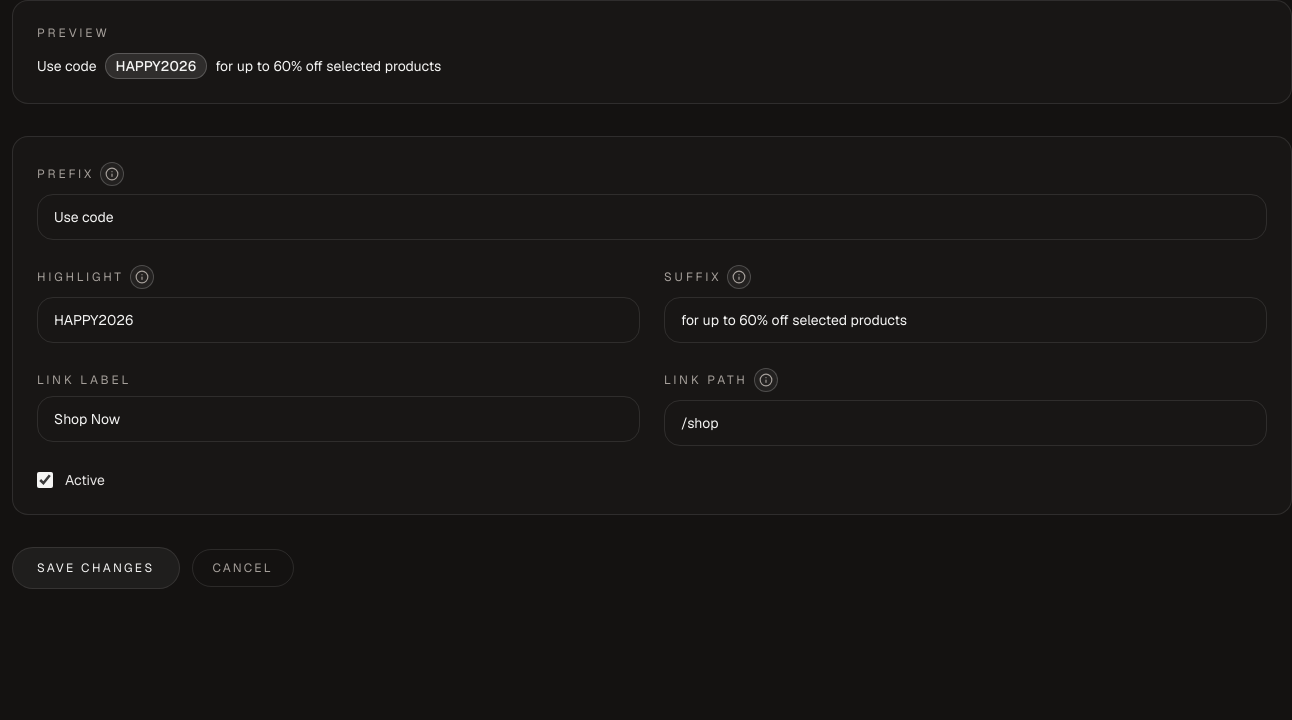
Test case: announcement form › feedback › keeps edited values after a refused save
Type "ends Sunday" into the field labelled "Suffix". click: [966, 320]
box: [664, 297, 1267, 343]
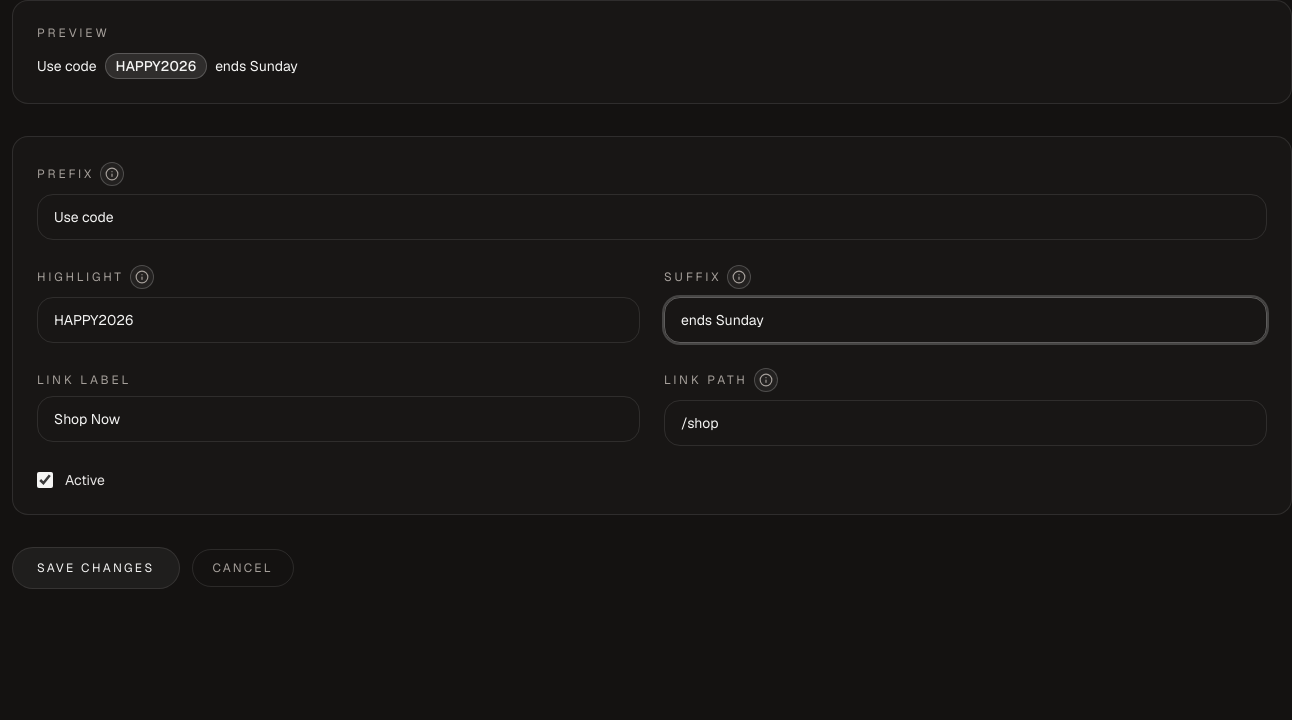
Click the checkbox labelled "Active". click: [45, 480]
box: [37, 472, 53, 488]
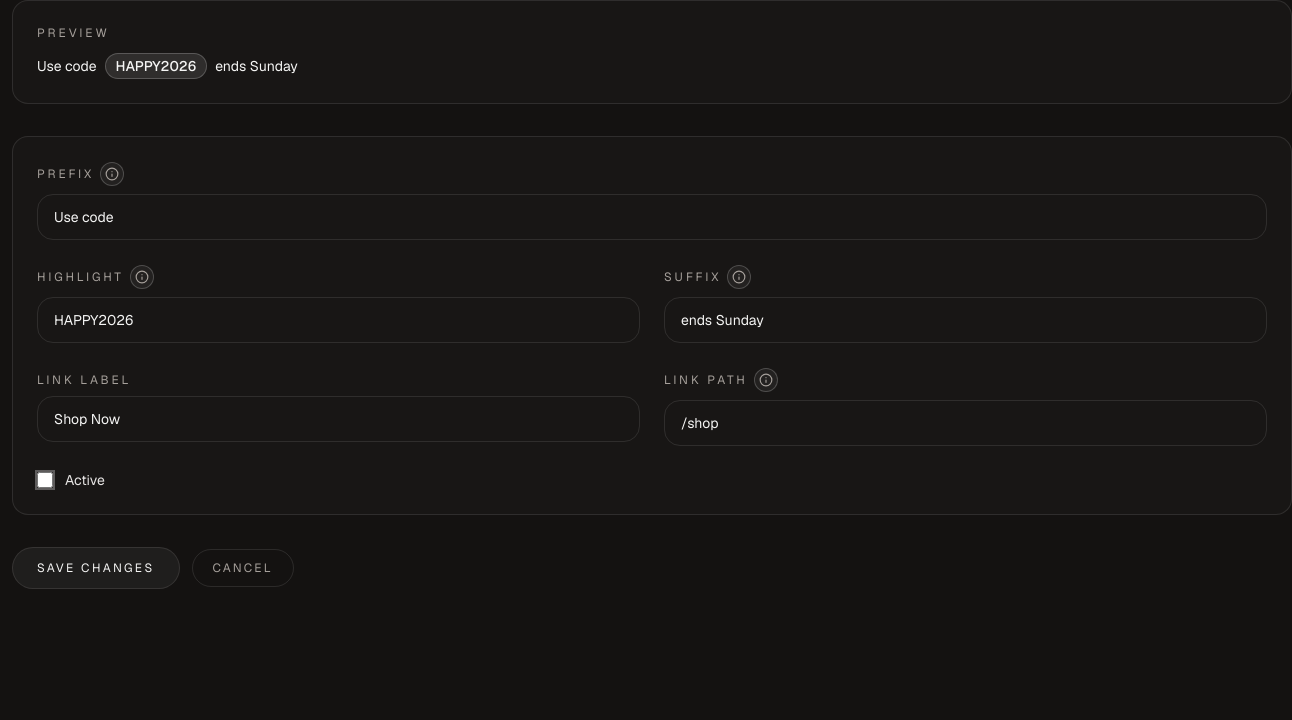
Click the button "Save changes". click: [96, 568]
box: [12, 547, 180, 589]
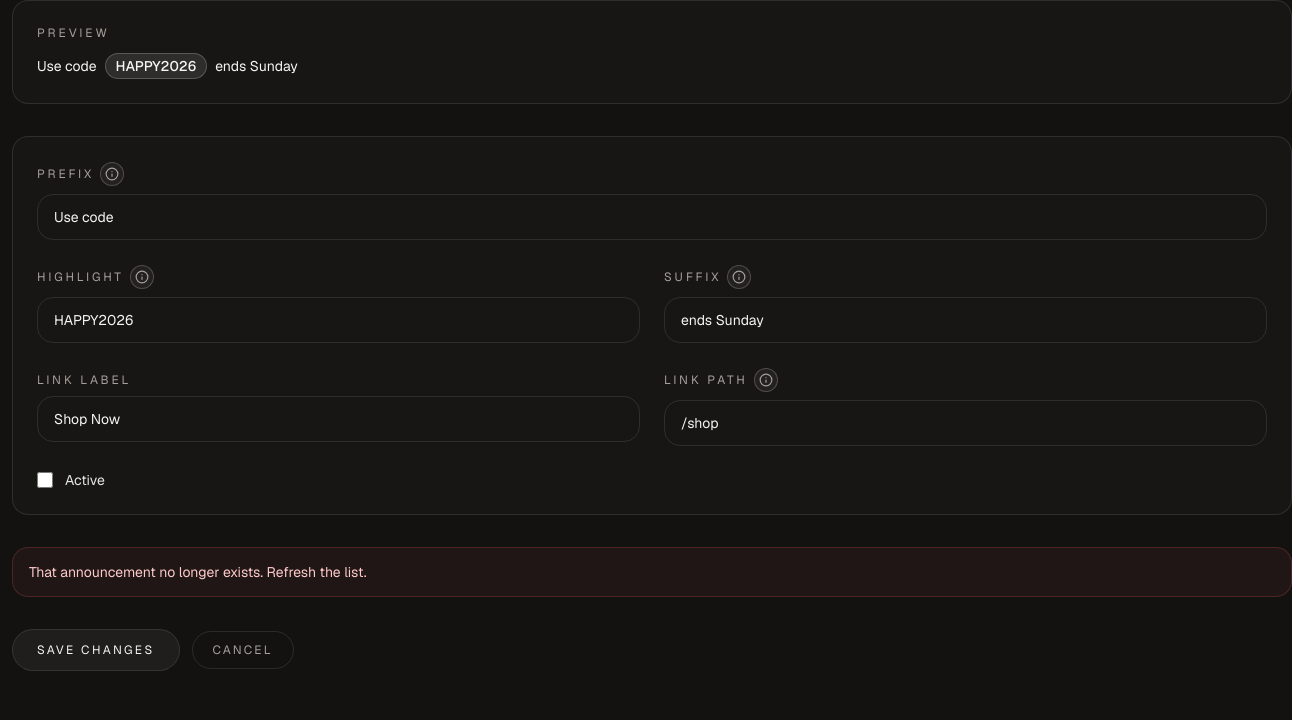
Result: the checkbox labelled "Active" is not checked at [37, 472, 53, 488]
Result: the message "That announcement no longer exists. Refresh the list." is shown at [12, 547, 1291, 597]
